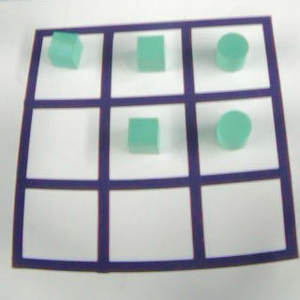cube: (118, 110, 172, 162), (43, 26, 90, 73), (128, 29, 174, 77)
cylinder: (206, 104, 265, 157), (209, 30, 257, 77)
empty: (193, 176, 294, 264), (101, 181, 200, 270), (16, 180, 105, 269), (19, 103, 108, 184)
